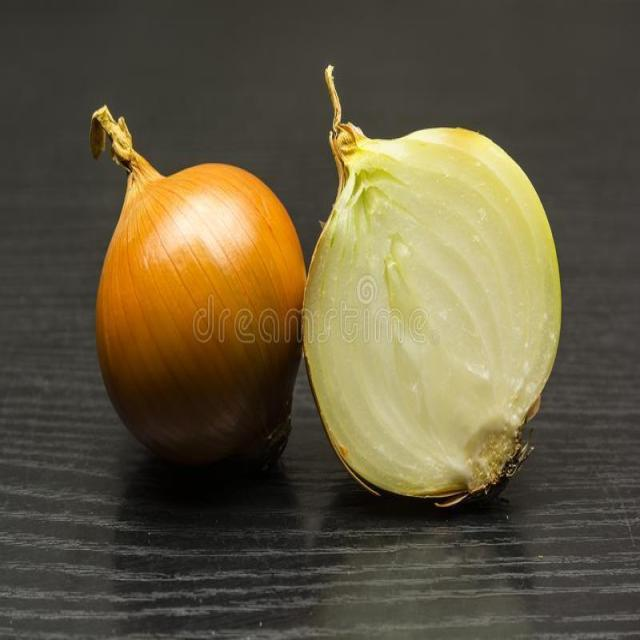Onion: (302, 61, 561, 509), (87, 101, 308, 473)
